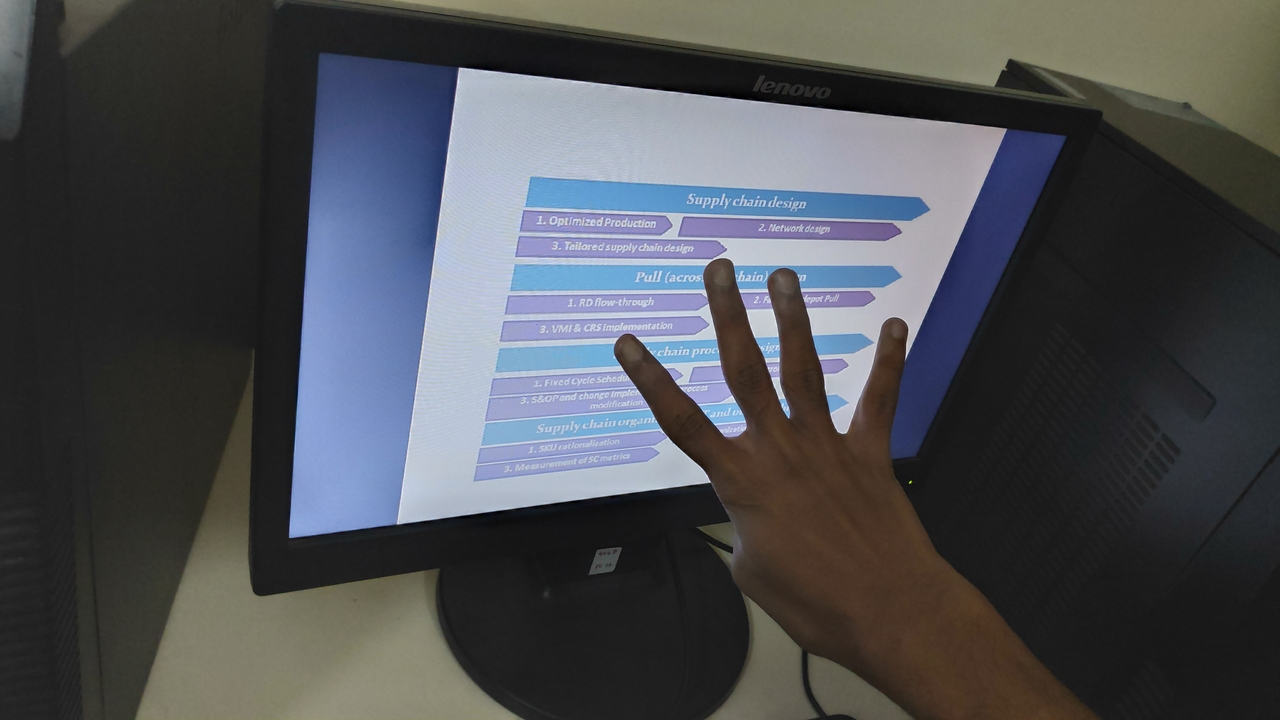fingertip: (760, 262, 818, 308), (868, 306, 920, 352), (610, 326, 660, 372), (696, 248, 746, 290)
